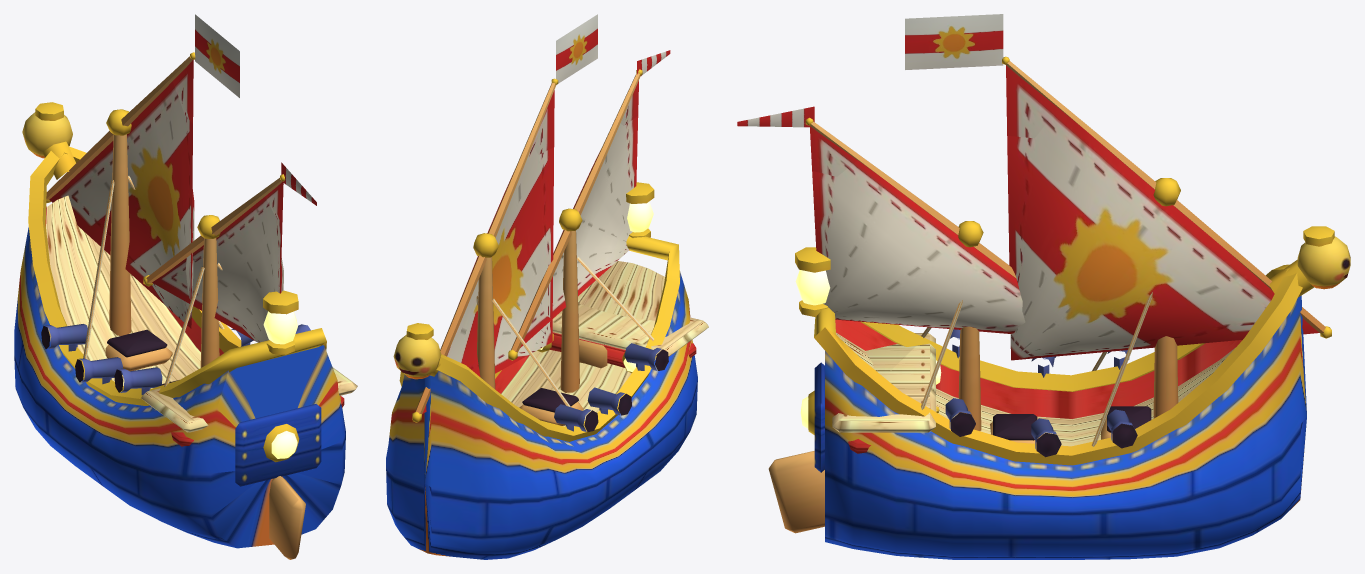
The model's file is navy_skirmisher.glb.
The picture shows the model from 3 angles, left to right: view 1: azimuth 30°, elevation 25°; view 2: azimuth 150°, elevation 25°; view 3: azimuth 270°, elevation 25°; orthographic projection. The views are drawn at different scales.
Parts seen in each view (by area): view 1: Hull, Sail0_0, Rigging, Sail1_0, Guns0, Flag; view 2: Hull, Sail0_0, Rigging, Sail1_0, Guns0, Flag; view 3: Hull, Sail0_0, Sail1_0, Rigging, Flag, Guns0.
Boxes of the visible parts, bbox=[...] form: Hull: bbox=[14, 102, 357, 559]; Sail0_0: bbox=[49, 60, 194, 328]; Rigging: bbox=[46, 52, 284, 386]; Sail1_0: bbox=[152, 182, 283, 342]; Guns0: bbox=[41, 324, 310, 394]; Flag: bbox=[195, 14, 316, 205]; Hull: bbox=[386, 182, 708, 559]; Sail0_0: bbox=[422, 90, 554, 413]; Rigging: bbox=[412, 69, 654, 425]; Sail1_0: bbox=[520, 80, 638, 347]; Guns0: bbox=[554, 343, 668, 431]; Flag: bbox=[556, 14, 670, 83]; Hull: bbox=[768, 226, 1350, 559]; Sail0_0: bbox=[1006, 65, 1318, 360]; Sail1_0: bbox=[809, 126, 1025, 333]; Rigging: bbox=[805, 56, 1331, 446]; Flag: bbox=[737, 14, 1003, 127]; Guns0: bbox=[945, 329, 1137, 457].
Bounding box in the file's own units: 1.01 × 2.22 × 2.38.
Materials: 8 (8 with a texture image).
